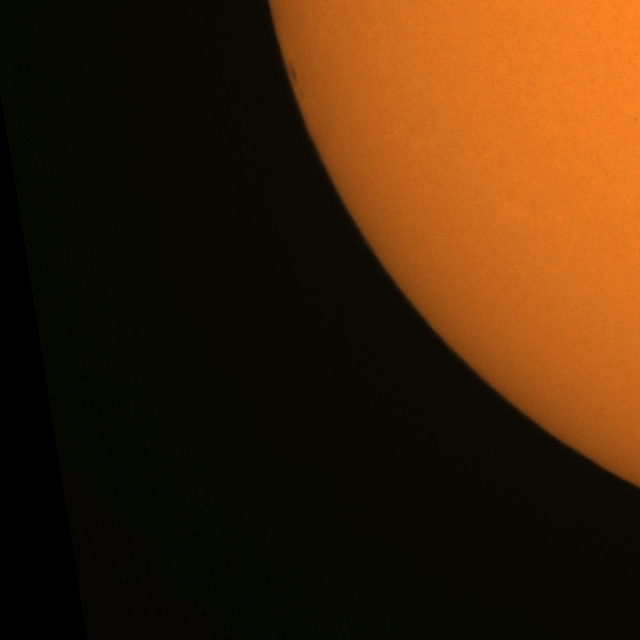sunspot: (288, 63, 298, 85)
